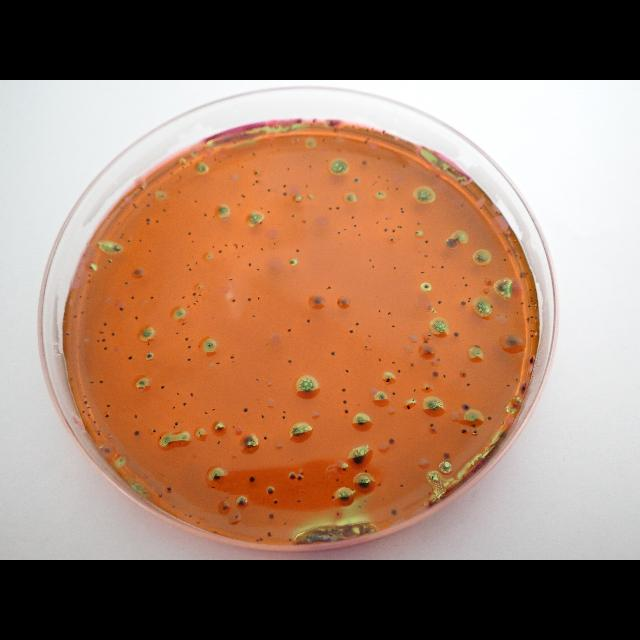colony: (467, 343, 485, 363), (297, 377, 317, 395), (476, 299, 494, 317), (329, 159, 348, 175), (497, 280, 515, 296), (357, 474, 373, 490), (418, 188, 434, 202), (432, 320, 448, 334), (292, 424, 308, 438), (352, 448, 364, 466), (438, 461, 454, 474), (426, 398, 440, 412), (504, 336, 520, 348), (243, 436, 257, 448), (444, 237, 458, 249), (235, 496, 249, 508), (217, 205, 229, 217), (356, 415, 368, 427), (338, 490, 350, 502), (248, 214, 262, 224), (476, 252, 488, 262), (312, 295, 324, 305), (132, 268, 144, 278), (196, 162, 207, 172), (213, 422, 224, 432), (461, 402, 471, 412), (468, 412, 478, 422), (204, 340, 214, 350), (424, 346, 434, 356), (212, 470, 222, 480), (112, 243, 121, 253), (346, 194, 356, 202), (141, 329, 151, 337), (221, 502, 229, 511), (294, 194, 302, 202), (360, 158, 368, 166), (460, 370, 468, 378), (146, 352, 154, 360), (164, 436, 172, 444), (266, 487, 274, 495), (89, 264, 97, 272), (158, 193, 166, 199), (306, 140, 314, 146), (528, 356, 534, 364), (406, 404, 412, 412), (175, 310, 183, 316), (181, 434, 187, 442), (388, 438, 396, 444), (442, 452, 450, 458), (385, 376, 391, 384), (340, 299, 348, 305), (390, 509, 398, 515), (138, 380, 146, 386), (308, 193, 314, 200), (290, 474, 296, 481), (378, 394, 384, 401), (354, 177, 360, 183), (376, 156, 382, 162), (453, 331, 459, 337), (432, 371, 438, 377), (460, 300, 466, 306), (268, 513, 274, 519), (166, 486, 172, 492), (104, 448, 110, 454), (134, 430, 140, 436), (249, 476, 255, 482), (297, 475, 303, 481), (410, 362, 416, 368), (330, 350, 336, 356), (348, 328, 354, 334), (160, 384, 166, 390), (526, 316, 530, 324), (146, 202, 150, 208), (290, 214, 296, 218), (282, 192, 288, 196), (328, 206, 332, 212), (378, 190, 382, 196), (295, 138, 299, 144), (364, 139, 368, 145), (466, 383, 472, 387), (472, 430, 478, 434), (462, 428, 466, 434), (267, 531, 271, 537), (233, 514, 239, 518), (119, 458, 125, 462), (104, 414, 110, 418), (288, 358, 292, 364), (390, 324, 396, 328), (124, 281, 130, 285), (312, 118, 316, 124), (190, 392, 194, 398), (174, 420, 178, 426), (244, 407, 248, 413), (261, 414, 265, 420), (210, 485, 216, 489), (386, 178, 389, 184), (162, 208, 166, 212), (156, 219, 160, 223), (146, 218, 150, 222), (147, 192, 151, 196), (140, 186, 144, 190), (178, 190, 182, 194), (178, 174, 182, 178), (228, 154, 232, 158), (254, 171, 258, 175), (255, 179, 259, 183), (267, 188, 271, 192), (302, 220, 306, 224), (282, 184, 286, 188), (305, 184, 309, 188), (336, 206, 340, 210), (351, 215, 355, 219), (308, 165, 312, 169), (286, 167, 290, 171), (322, 138, 326, 142), (402, 164, 406, 168), (503, 258, 507, 262), (515, 253, 519, 257), (527, 304, 531, 308), (530, 334, 534, 338), (442, 374, 446, 378), (425, 386, 429, 390), (488, 416, 492, 420), (472, 423, 476, 427), (515, 378, 519, 382), (506, 384, 510, 388), (504, 314, 508, 318), (468, 296, 472, 300), (488, 280, 492, 284), (424, 284, 428, 288), (368, 258, 372, 262), (290, 260, 294, 264), (260, 247, 264, 251), (248, 262, 252, 266), (218, 250, 222, 254), (192, 292, 196, 296), (181, 295, 185, 299), (185, 337, 189, 341), (187, 345, 191, 349), (255, 378, 259, 382), (342, 388, 346, 392), (343, 400, 347, 404), (344, 409, 348, 413), (335, 478, 339, 482), (331, 495, 335, 499), (358, 505, 362, 509), (274, 500, 278, 504), (297, 499, 301, 503), (288, 538, 292, 542), (256, 538, 260, 542), (189, 514, 193, 518), (158, 494, 162, 498), (99, 446, 103, 450), (84, 400, 88, 404), (106, 404, 110, 408), (104, 347, 108, 351), (102, 338, 106, 342), (96, 339, 100, 343), (111, 332, 115, 336), (104, 322, 108, 326), (81, 311, 85, 315), (120, 307, 124, 311), (131, 296, 135, 300), (128, 356, 132, 360), (134, 414, 138, 418), (152, 429, 156, 433), (217, 440, 221, 444), (264, 436, 268, 440), (300, 472, 304, 476), (430, 423, 434, 427), (522, 386, 526, 390), (401, 210, 405, 214), (416, 221, 420, 225), (425, 240, 429, 244), (438, 300, 442, 304), (429, 307, 433, 311), (432, 310, 436, 314), (428, 334, 432, 338), (424, 340, 428, 344), (437, 358, 441, 362), (397, 369, 401, 373), (378, 358, 382, 362), (392, 392, 396, 396), (345, 369, 349, 373), (367, 334, 371, 338), (355, 322, 359, 326), (388, 311, 392, 315), (378, 309, 382, 313), (306, 319, 310, 323), (287, 328, 291, 332), (248, 297, 252, 301), (232, 299, 236, 303), (150, 296, 154, 300), (108, 259, 112, 263), (148, 249, 152, 253), (188, 232, 192, 236), (191, 239, 195, 243), (234, 243, 238, 247), (296, 248, 300, 252), (378, 483, 382, 487), (400, 484, 404, 488), (382, 130, 386, 134), (176, 392, 180, 396), (183, 402, 187, 406), (172, 405, 176, 409), (173, 425, 177, 429), (282, 410, 286, 414), (282, 415, 286, 419), (79, 294, 83, 298), (86, 296, 90, 300), (87, 279, 91, 283), (66, 332, 70, 336), (170, 171, 173, 175), (252, 152, 255, 156), (237, 202, 241, 205), (266, 210, 270, 213), (374, 180, 378, 183), (461, 203, 464, 207), (195, 261, 198, 265), (182, 322, 185, 326), (336, 512, 339, 516), (90, 381, 94, 384), (99, 381, 103, 384), (391, 238, 394, 242), (424, 255, 428, 258), (252, 182, 255, 185), (386, 187, 389, 190), (82, 411, 85, 414), (122, 232, 125, 235), (146, 222, 150, 224), (132, 204, 136, 206), (182, 165, 184, 169), (190, 161, 192, 165), (242, 165, 244, 169), (204, 213, 206, 217), (260, 221, 262, 225), (260, 207, 264, 209), (378, 175, 380, 179), (396, 187, 398, 191), (480, 206, 482, 210), (519, 256, 521, 260), (530, 288, 532, 292), (530, 300, 534, 302), (520, 302, 524, 304), (530, 316, 534, 318), (535, 316, 537, 320), (517, 310, 519, 314), (414, 388, 416, 392), (412, 398, 414, 402), (464, 284, 468, 286), (462, 276, 464, 280), (440, 266, 444, 268), (420, 271, 424, 273), (394, 266, 396, 270), (256, 269, 260, 271), (236, 256, 240, 258), (188, 268, 192, 270), (198, 286, 200, 290), (198, 294, 202, 296), (187, 358, 191, 360), (216, 362, 220, 364), (230, 356, 234, 358), (364, 470, 368, 472), (284, 522, 286, 526), (260, 538, 264, 540), (196, 522, 200, 524), (98, 432, 100, 436), (94, 420, 96, 424), (87, 414, 91, 416), (86, 406, 90, 408), (84, 394, 86, 398), (73, 315, 77, 317), (136, 316, 138, 320), (148, 342, 150, 346), (198, 431, 200, 435), (342, 468, 346, 470), (432, 428, 436, 430), (415, 232, 419, 234), (392, 230, 396, 232), (391, 362, 395, 364), (364, 346, 368, 348), (328, 286, 332, 288), (258, 296, 260, 300), (252, 315, 256, 317), (88, 274, 92, 276), (140, 238, 142, 242), (224, 244, 228, 246), (194, 200, 198, 202), (337, 232, 341, 234), (343, 228, 347, 230), (358, 234, 362, 236), (273, 242, 277, 244), (428, 492, 432, 494), (229, 279, 233, 281), (204, 412, 208, 414), (212, 408, 216, 410), (104, 266, 108, 268), (242, 196, 245, 198), (252, 210, 254, 213), (372, 182, 374, 185), (496, 210, 498, 213), (496, 314, 499, 316), (208, 255, 210, 258), (187, 264, 190, 266), (187, 306, 190, 308), (160, 436, 162, 439), (401, 208, 404, 210), (398, 225, 400, 228), (326, 288, 329, 290), (212, 246, 215, 248), (241, 245, 243, 248), (354, 225, 356, 228), (135, 206, 137, 208), (134, 194, 136, 196), (241, 194, 243, 196), (326, 160, 328, 162), (526, 272, 528, 274), (534, 288, 536, 290), (531, 297, 533, 299), (530, 330, 532, 332), (533, 330, 535, 332), (468, 300, 470, 302), (490, 305, 492, 307), (484, 277, 486, 279), (432, 266, 434, 268), (372, 266, 374, 268), (196, 300, 198, 302), (194, 302, 196, 304), (176, 332, 178, 334), (289, 378, 291, 380), (185, 514, 187, 516), (172, 506, 174, 508), (233, 426, 235, 428), (510, 410, 512, 412), (400, 226, 402, 228), (386, 218, 388, 220), (376, 222, 378, 224), (385, 228, 387, 230), (384, 230, 386, 232), (128, 240, 130, 242), (120, 236, 122, 238), (236, 247, 238, 249)
